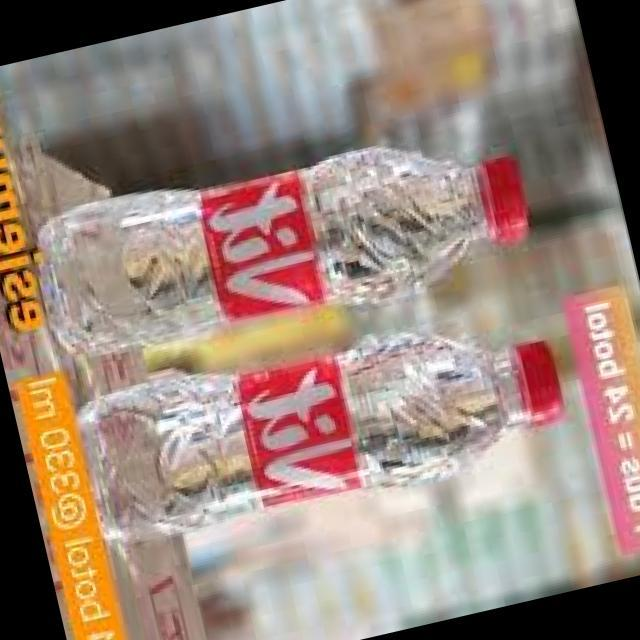good: (21, 84, 541, 378), (94, 272, 586, 568)
